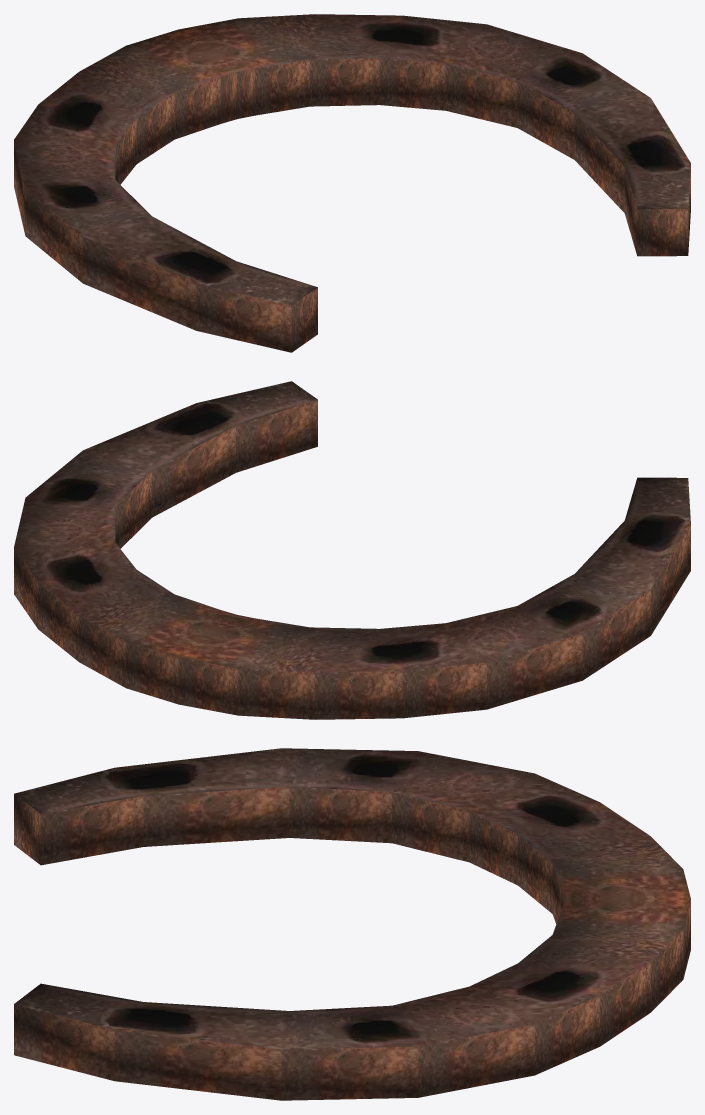
The model's file is GS_HOUSE_HORSESHOE_01_GALI.glb.
3 views of the same model, one above another, from view 1: azimuth 30°, elevation 25°; view 2: azimuth 150°, elevation 25°; view 3: azimuth 270°, elevation 25° (orthographic). The views are drawn at different scales.
Parts seen in each view (by area): view 1: Mesh; view 2: Mesh; view 3: Mesh.
Part boxes in pixels (x1=…): Mesh: x1=14, y1=14, x2=690, y2=352; Mesh: x1=14, y1=381, x2=690, y2=719; Mesh: x1=14, y1=748, x2=690, y2=1100.
Size of the model in its own units: 0.2414 by 0.0191 by 0.2292.
1 material, 1 textured.
